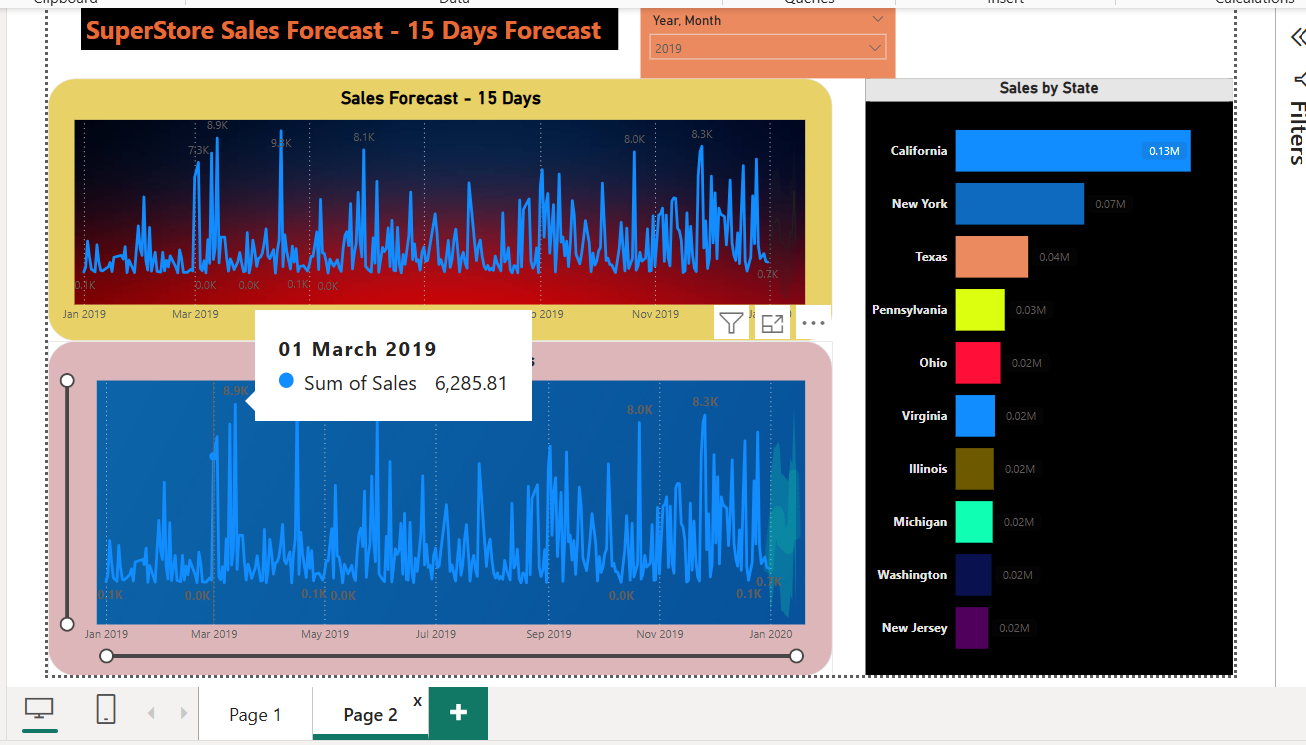

The page's visual inventory and layout, read from the dashboard file:
{"tool":"powerbi","page":{"name":"Page 2","canvas":[1280,720],"ordinal":1},"visuals":[{"type":"lineChart","title":"Sales Forecast - 15 Days","fields":{"Y":["Sum(SuperStore_Sales_Dataset.Sales)"],"Category":["SuperStore_Sales_Dataset.Order Date"]},"box":[0,76.1,846.9,283.4],"z":0},{"type":"lineChart","title":"Sales Forecast - 15 Days","fields":{"Y":["Sum(SuperStore_Sales_Dataset.Sales)"],"Category":["SuperStore_Sales_Dataset.Order Date"]},"box":[0,359.5,846.9,361.1],"z":1},{"type":"clusteredBarChart","title":" Sales by State","fields":{"Category":["SuperStore_Sales_Dataset.State"],"Y":["Sum(SuperStore_Sales_Dataset.Sales)"]},"box":[882.5,76.1,396.7,644.5],"z":2},{"type":"textbox","box":[35.6,0,579.7,45.3],"z":3},{"type":"slicer","fields":{"Values":["SuperStore_Sales_Dataset.Order Date.Variation.Date Hierarchy.Year","SuperStore_Sales_Dataset.Order Date.Variation.Date Hierarchy.Month"]},"box":[639.6,0,275.3,76.1],"z":4}]}

Visuals, with their boxes on the page's 1280x720 design canvas (x1, y1, x2, y2). These are canvas units, not pixel positions in the 1306x745 screenshot, which may show the page scaled, cropped or inside an application window:
"Sales Forecast - 15 Days" lineChart: [x1=0, y1=76, x2=847, y2=360]
"Sales Forecast - 15 Days" lineChart: [x1=0, y1=360, x2=847, y2=721]
" Sales by State" clusteredBarChart: [x1=882, y1=76, x2=1279, y2=721]
textbox: [x1=36, y1=0, x2=615, y2=45]
slicer - SuperStore_Sales_Dataset.Order Date.Variation.Date Hierarchy.Year x SuperStore_Sales_Dataset.Order Date.Variation.Date Hierarchy.Month: [x1=640, y1=0, x2=915, y2=76]
